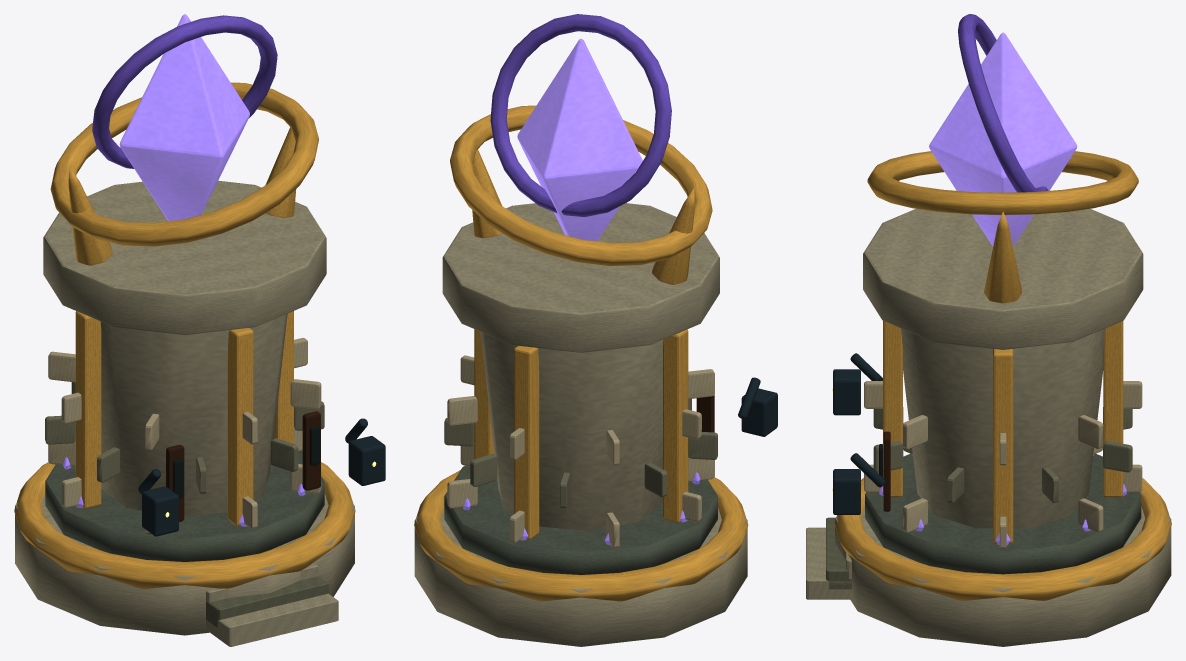
The model's file is tower-arcane-1-base.glb.
3 renders of one model, left to right at view 1: azimuth 30°, elevation 25°; view 2: azimuth 150°, elevation 25°; view 3: azimuth 270°, elevation 25°, orthographic. The views are drawn at different scales.
Parts seen in each view (by area): view 1: Foundation, Turret, arcane-L1-base; view 2: Turret, Foundation, arcane-L1-base; view 3: Foundation, Turret, arcane-L1-base.
Part boxes in pixels (bbox=[...]): Foundation: bbox=[14, 311, 385, 646]; Turret: bbox=[43, 14, 326, 334]; arcane-L1-base: bbox=[15, 450, 354, 635]; Turret: bbox=[442, 14, 719, 352]; Foundation: bbox=[414, 329, 777, 601]; arcane-L1-base: bbox=[414, 466, 747, 646]; Foundation: bbox=[806, 321, 1171, 600]; Turret: bbox=[863, 14, 1143, 349]; arcane-L1-base: bbox=[835, 453, 1171, 646].
Size of the model in its own units: 1.69 by 3.04 by 1.83.
13 materials, 13 textured.
